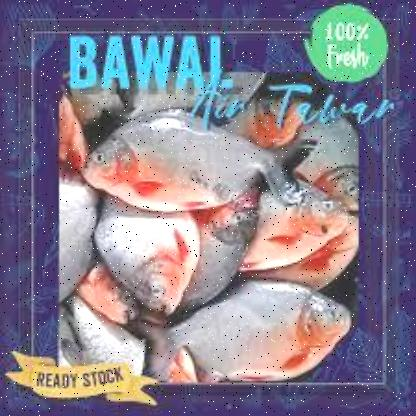ikan-pacu: (146, 277, 346, 387), (87, 107, 263, 209), (93, 199, 198, 307), (242, 182, 344, 276)
